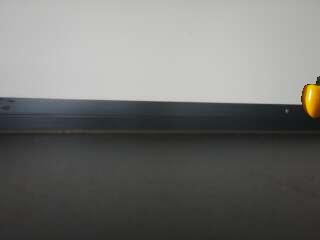Capsicum: (301, 74, 320, 119)
